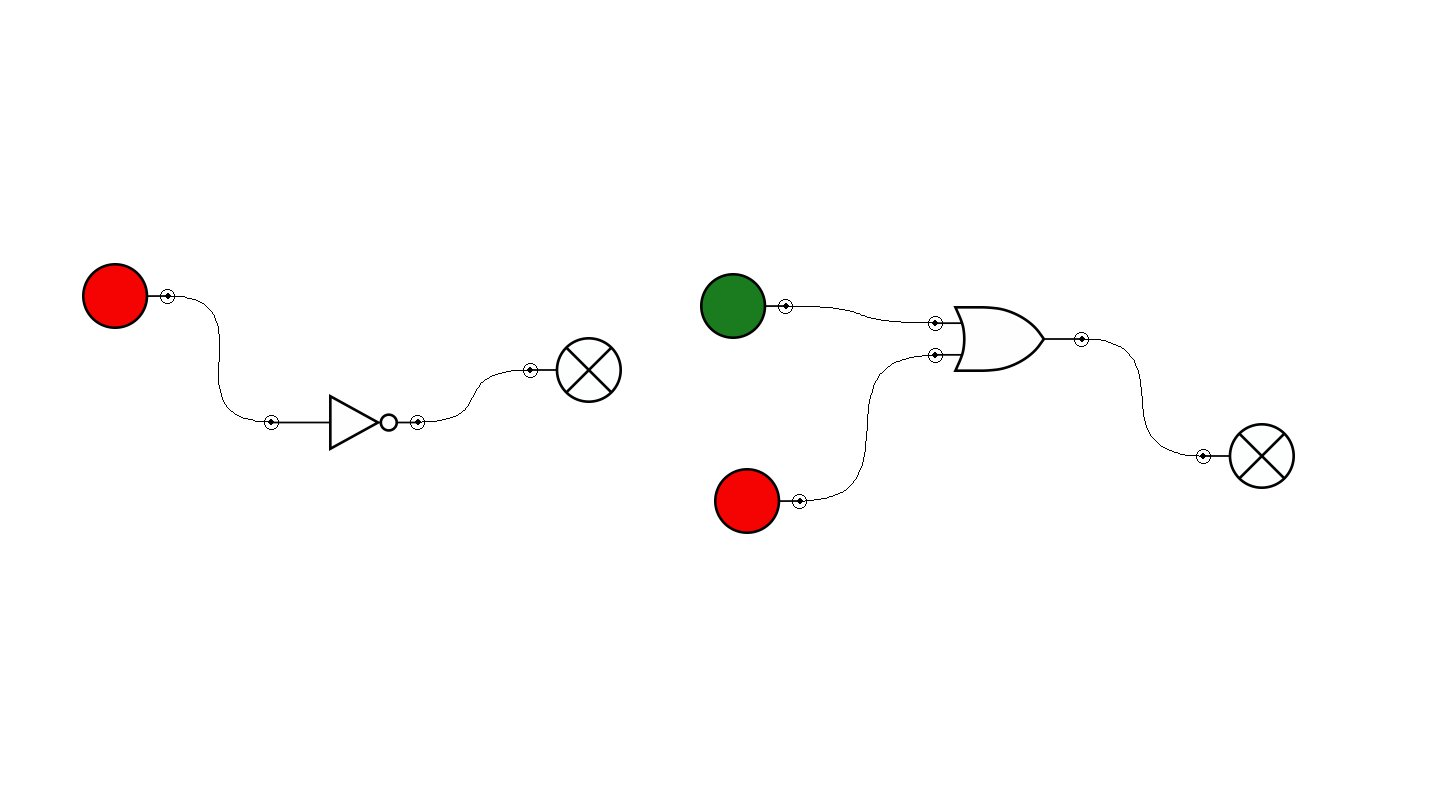bulb: (1196, 423, 1295, 489), (523, 337, 622, 403)
not: (264, 394, 425, 451)
or: (928, 306, 1089, 372)
switch_False: (714, 468, 807, 534), (82, 263, 175, 329)
switch_True: (700, 273, 793, 339)
